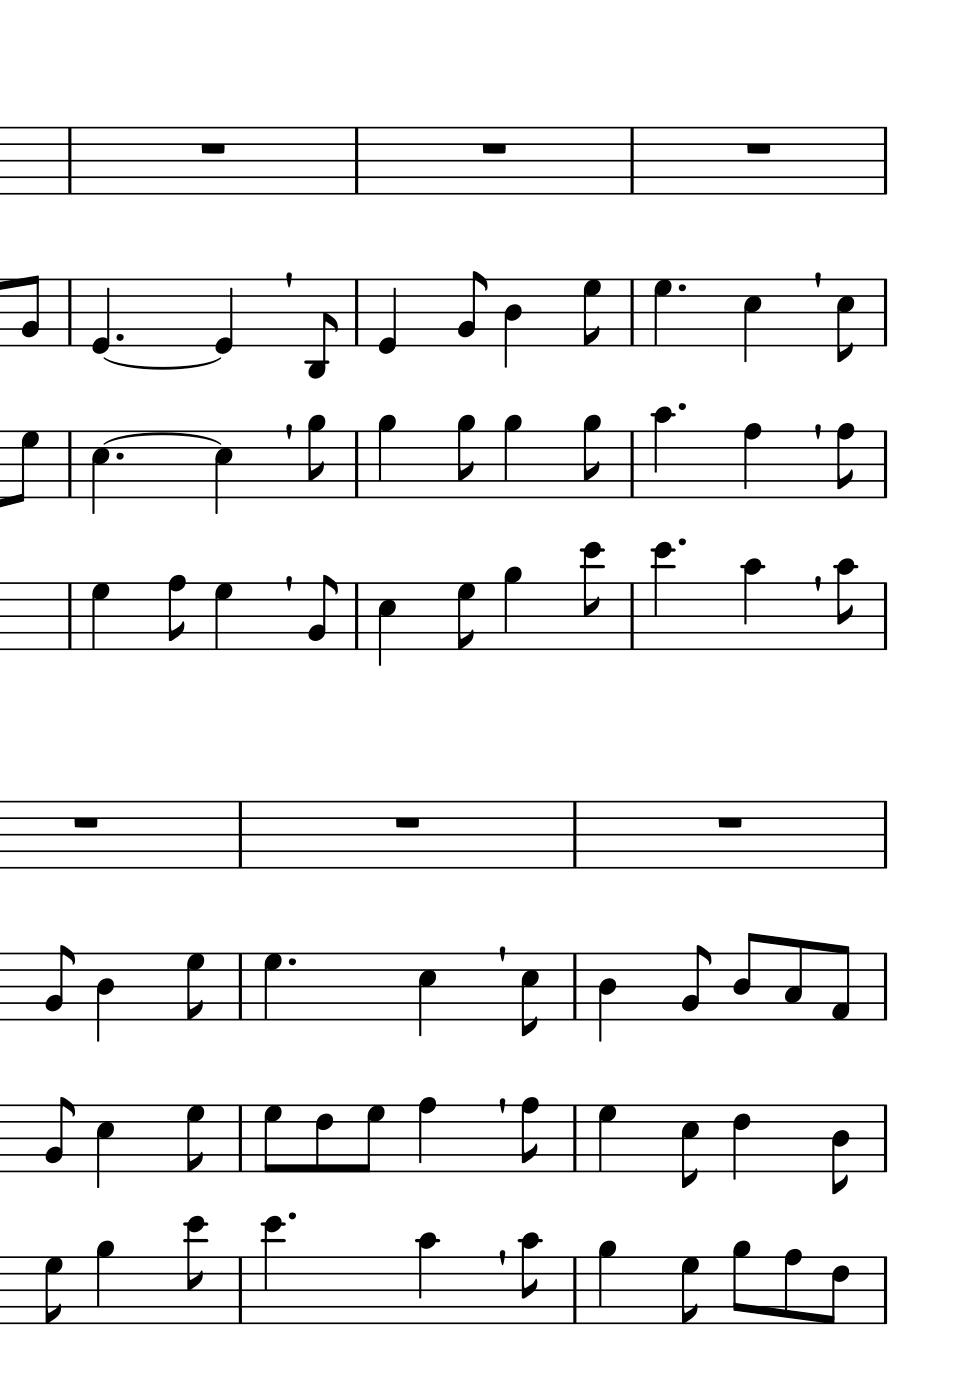4_0: (211, 276, 235, 357), (88, 277, 112, 356), (377, 277, 398, 356)
4_10: (414, 1230, 440, 1326), (650, 405, 675, 499), (739, 557, 764, 651)
4_12: (259, 1214, 288, 1327), (649, 541, 677, 653)
4_4: (595, 950, 617, 1043), (501, 278, 522, 369), (94, 951, 115, 1043)
4_5: (415, 951, 438, 1041), (740, 277, 763, 366), (212, 429, 234, 517), (89, 429, 110, 517), (94, 1103, 115, 1191), (377, 581, 397, 668)
4_6: (730, 1103, 751, 1183)
4_7: (88, 580, 113, 651), (212, 580, 237, 651), (261, 951, 284, 1023), (595, 1103, 618, 1175), (651, 277, 673, 349)
4_8: (740, 421, 763, 501), (415, 1095, 437, 1174)
4_9: (500, 413, 523, 499), (595, 1238, 617, 1324), (501, 565, 523, 651), (375, 413, 397, 501), (93, 1238, 115, 1326)
8_-3: (307, 277, 338, 379)
8_1: (828, 942, 851, 1023)
8_10: (832, 557, 857, 652), (517, 1231, 542, 1327)
8_12: (183, 1214, 210, 1326), (580, 540, 606, 652)
8_2: (43, 943, 75, 1021), (43, 1095, 75, 1174), (680, 943, 711, 1022), (307, 573, 337, 651), (455, 270, 486, 347), (19, 273, 41, 349)
8_3: (781, 938, 805, 1023)
8_4: (731, 932, 760, 1022), (829, 1103, 848, 1198)
8_5: (678, 1103, 700, 1190), (834, 277, 855, 364), (519, 951, 539, 1038)
8_6: (823, 1255, 850, 1327), (313, 1103, 334, 1174)
8_7: (11, 429, 39, 505), (356, 1102, 385, 1173), (183, 951, 206, 1023), (183, 1103, 206, 1174), (678, 1256, 700, 1327), (581, 277, 602, 349), (455, 581, 476, 652), (262, 1103, 283, 1174), (42, 1255, 64, 1326)
8_8: (833, 422, 856, 501), (517, 1096, 540, 1174), (165, 573, 187, 652), (782, 1247, 803, 1327)
8_9: (580, 413, 601, 501), (455, 414, 476, 501), (730, 1239, 751, 1326), (305, 413, 326, 501)
Rests1: (69, 813, 102, 831), (742, 139, 774, 157), (391, 813, 423, 831), (196, 140, 229, 157), (714, 813, 745, 831), (478, 140, 509, 156)
Single_barline: (876, 279, 893, 346), (62, 431, 78, 497), (876, 431, 893, 497), (62, 583, 78, 650), (876, 1105, 893, 1172), (348, 431, 365, 496), (624, 431, 641, 496), (348, 583, 365, 649), (231, 802, 248, 867), (566, 1257, 583, 1322), (877, 1256, 893, 1324), (62, 278, 77, 346), (877, 801, 893, 869), (877, 127, 893, 194), (876, 582, 892, 649), (566, 954, 583, 1017), (62, 127, 77, 193), (624, 583, 640, 649), (566, 802, 582, 867), (567, 1105, 583, 1171), (348, 279, 364, 344), (232, 1105, 248, 1170), (232, 1258, 248, 1322), (624, 280, 640, 344), (232, 954, 248, 1018), (877, 953, 892, 1021), (349, 128, 364, 193), (624, 128, 638, 193)
Slur: (101, 355, 224, 372), (101, 431, 227, 446)
dot: (673, 277, 693, 304), (673, 281, 688, 295), (675, 536, 688, 549), (673, 401, 688, 414), (112, 450, 125, 463), (285, 955, 298, 969), (113, 330, 125, 344), (285, 1210, 297, 1223)
